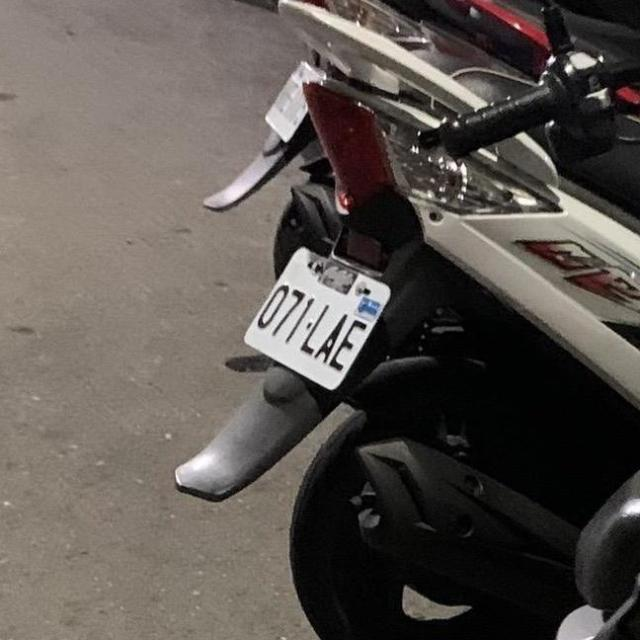W: (230, 227, 402, 397)
